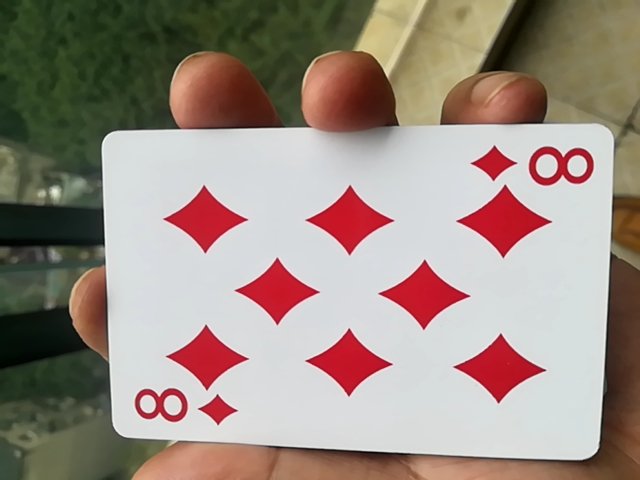fk 8: (92, 128, 605, 467)
